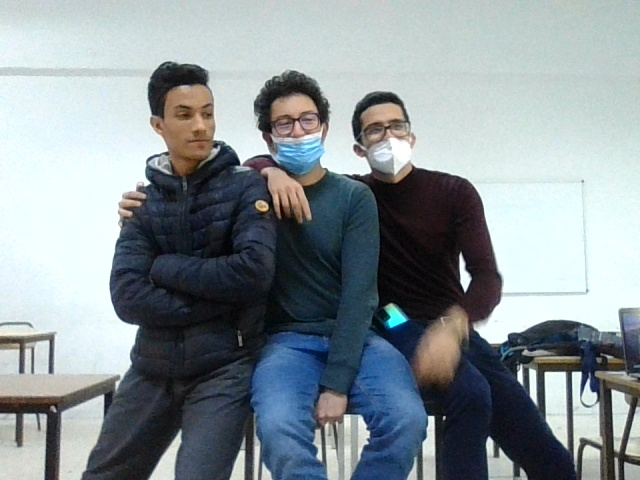mask_weared_incorrect: (350, 83, 432, 184), (252, 83, 334, 183)
without_mask: (139, 62, 243, 198)
